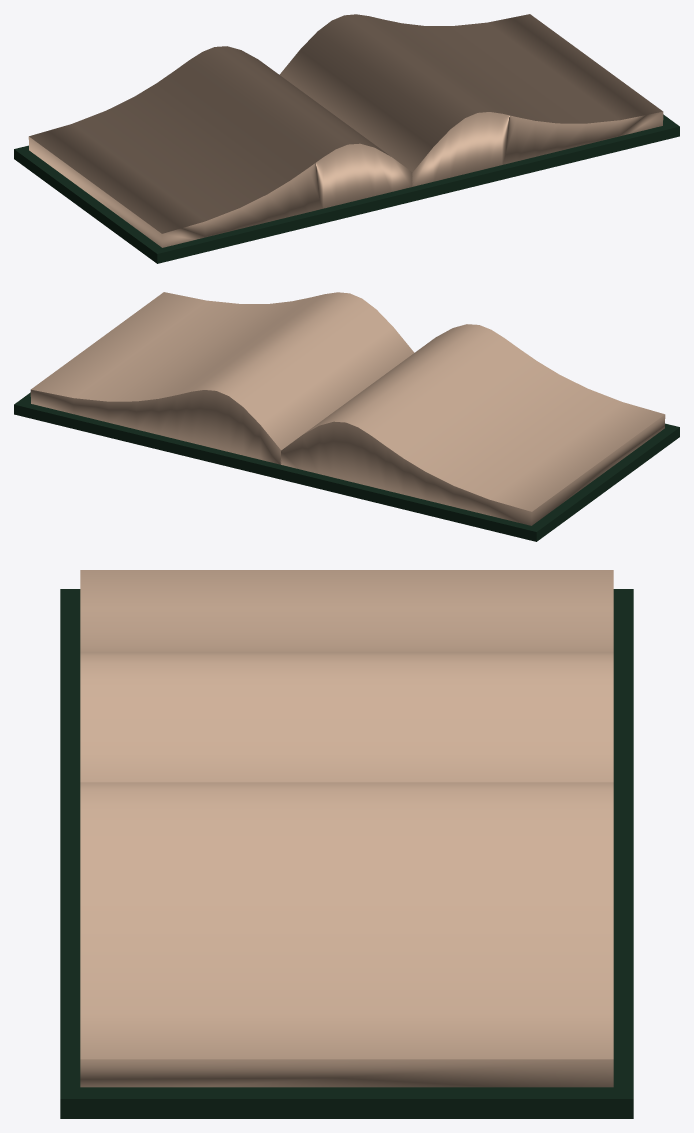
Rendered from Libro.fbx.
3 renders of one model, top to bottom at view 1: azimuth 30°, elevation 25°; view 2: azimuth 150°, elevation 25°; view 3: azimuth 270°, elevation 25°, orthographic. The views are drawn at different scales.
Visible parts, largest first — view 1: Libro; view 2: Libro; view 3: Libro.
Boxes of the visible parts, bbox=[...] form: Libro: bbox=[14, 14, 679, 263]; Libro: bbox=[14, 292, 679, 541]; Libro: bbox=[60, 570, 633, 1118].
Size of the model in its own units: 276 by 34.35 by 131.
